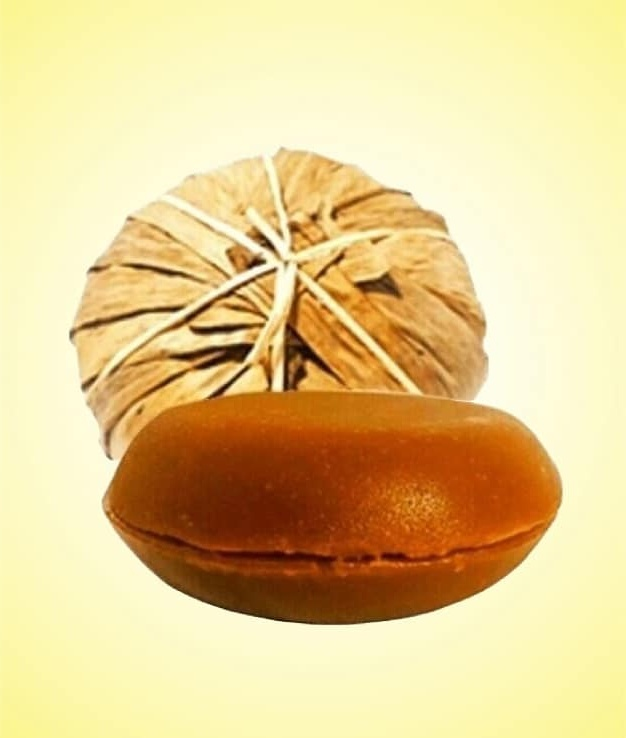hakuru: (101, 386, 567, 627)
